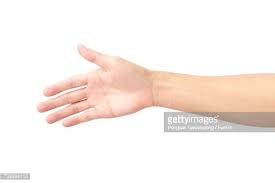hand: (35, 32, 180, 142), (99, 55, 191, 156)
